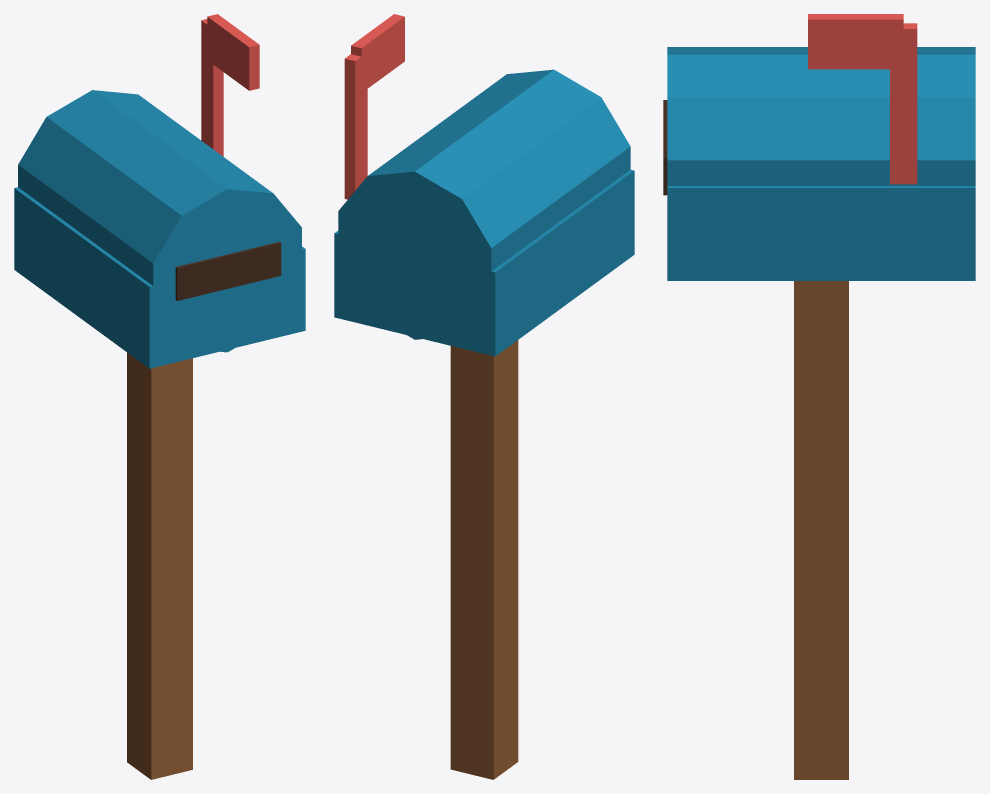
File: mailbox.glb
3 views of the same model, side by side, from view 1: azimuth 30°, elevation 25°; view 2: azimuth 150°, elevation 25°; view 3: azimuth 270°, elevation 25° (orthographic). The views are drawn at different scales.
Parts seen in each view (by area): view 1: mailbox; view 2: mailbox; view 3: mailbox.
Boxes of the visible parts, box(x1,y1,x2,y2) form: mailbox: box(14, 14, 305, 779); mailbox: box(334, 14, 634, 779); mailbox: box(663, 14, 975, 779).
Bounding box in the file's own units: 0.33 × 1.29 × 0.456.
